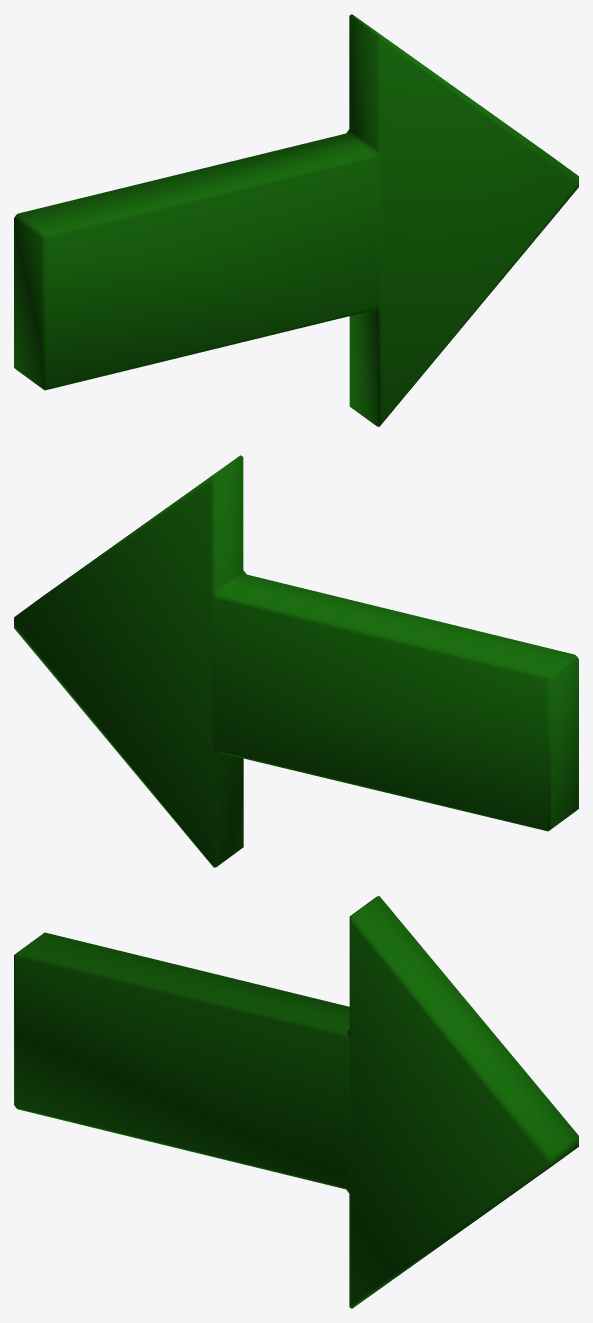
File: 3DArrow.FBX
3 views of the same model, one above another, from view 1: azimuth 30°, elevation 25°; view 2: azimuth 150°, elevation 25°; view 3: azimuth 330°, elevation 25° (orthographic).
Parts seen in each view (by area): view 1: Object001; view 2: Object001; view 3: Object001.
Part boxes in pixels (bbox=[...]): Object001: bbox=[14, 14, 578, 426]; Object001: bbox=[14, 455, 578, 867]; Object001: bbox=[14, 896, 578, 1308].
Bounding box in the file's own units: 49.71 × 34.72 × 5.06.
